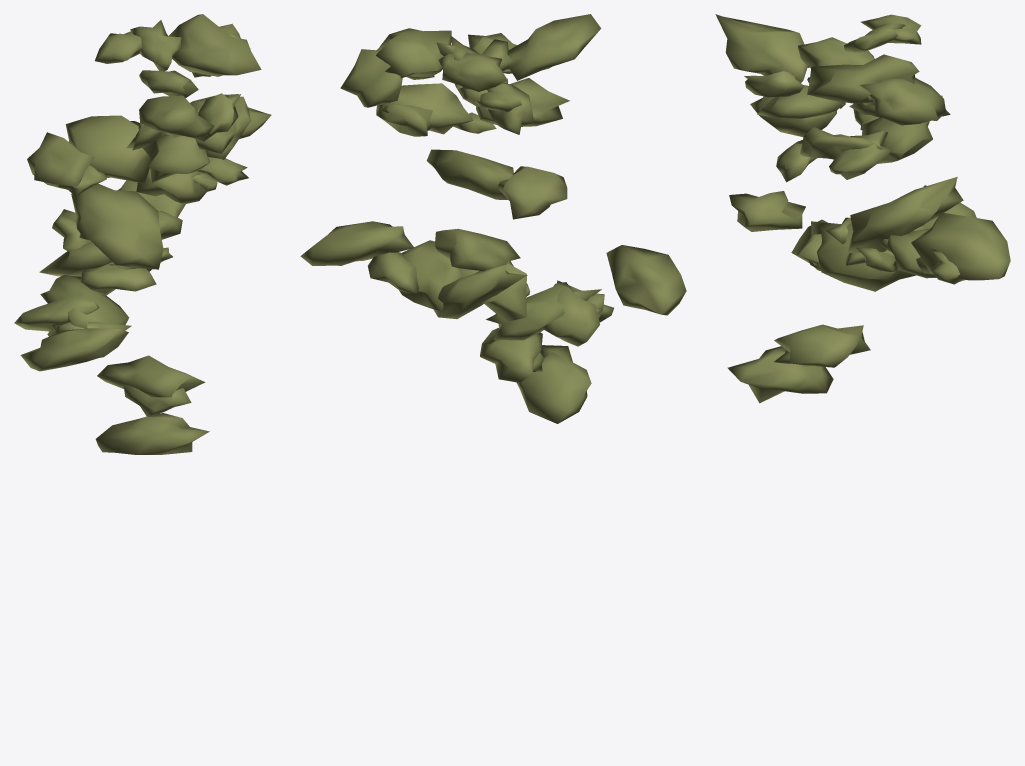
Rendered from baum-buche-1-nah.glb.
3 views of the same model, side by side, from view 1: azimuth 30°, elevation 25°; view 2: azimuth 150°, elevation 25°; view 3: azimuth 270°, elevation 25° (orthographic). The views are drawn at different scales.
Parts seen in each view (by area): view 1: Baum_Stamm.001; view 2: Baum_Stamm.001; view 3: Baum_Stamm.001.
Part boxes in pixels (x1,y1,x2,y2): Baum_Stamm.001: (14,14,271,454); Baum_Stamm.001: (300,14,686,423); Baum_Stamm.001: (715,14,1010,403).
Bounding box in the file's own units: 10.87 × 27.18 × 9.94.
